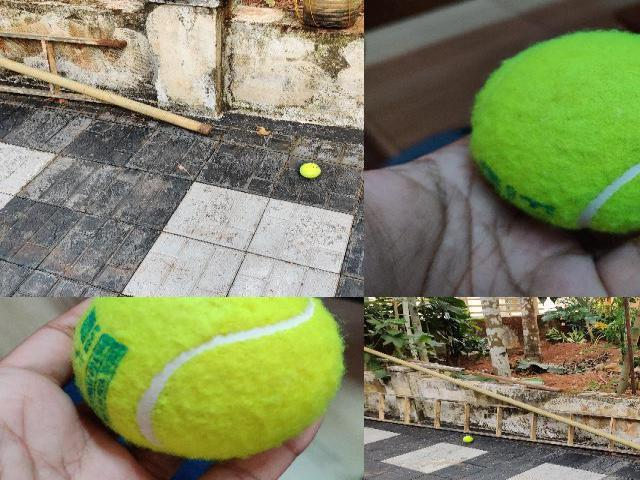tennis-ball: (73, 297, 344, 458), (469, 31, 639, 231), (299, 162, 321, 178), (462, 436, 472, 442)
